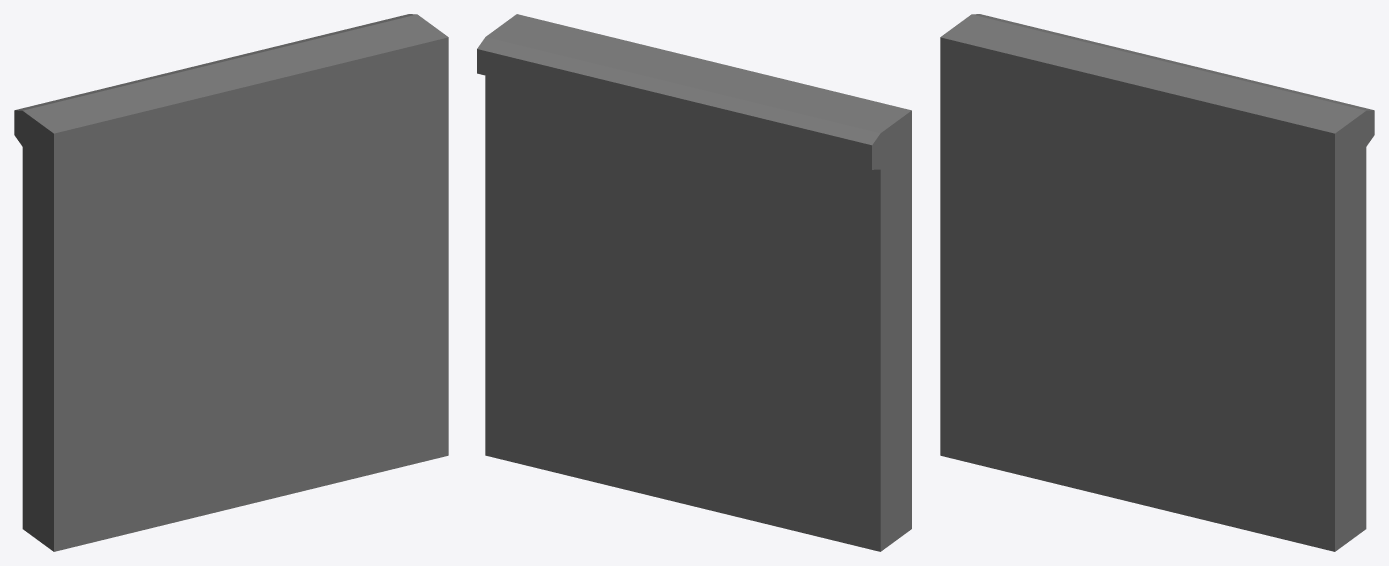
Rendered from Stone Wall 1.fbx.
3 views of the same model, side by side, from view 1: azimuth 30°, elevation 25°; view 2: azimuth 150°, elevation 25°; view 3: azimuth 330°, elevation 25° (orthographic).
Parts seen in each view (by area): view 1: Stone_Wall_1; view 2: Stone_Wall_1; view 3: Stone_Wall_1.
Part boxes in pixels (x1,y1,x2,y2): Stone_Wall_1: (14, 14, 448, 551); Stone_Wall_1: (477, 14, 911, 551); Stone_Wall_1: (940, 14, 1374, 551).
Bounding box in the file's own units: 4 × 4.05 × 0.6983.
